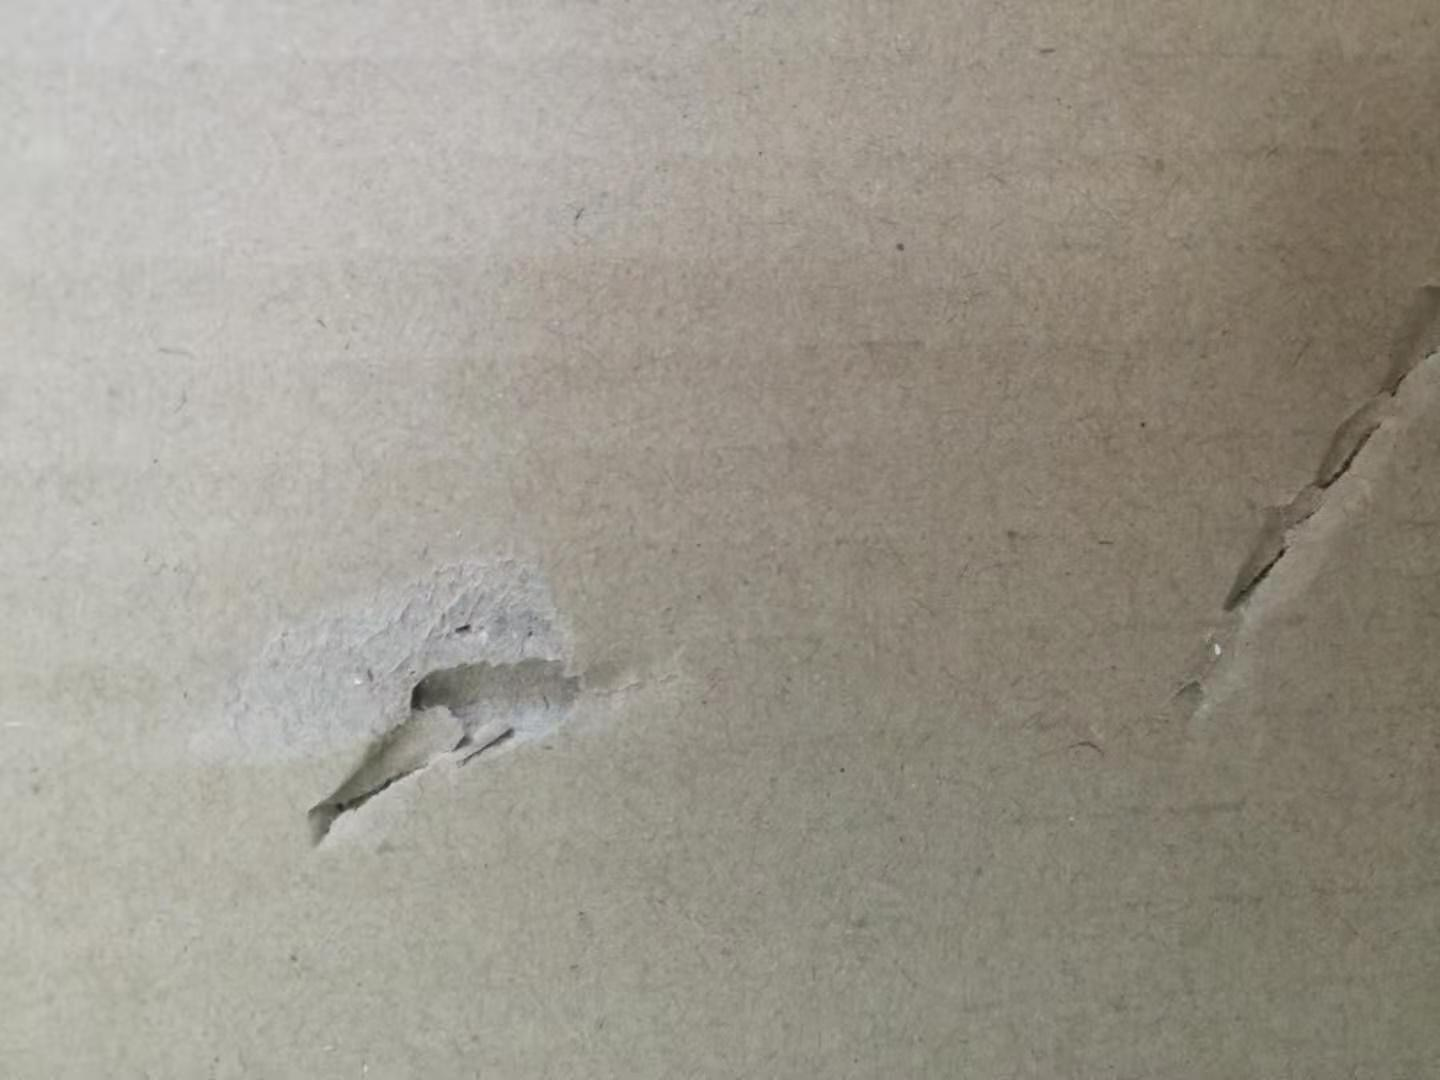defect: (168, 526, 725, 866), (1145, 247, 1440, 765)
